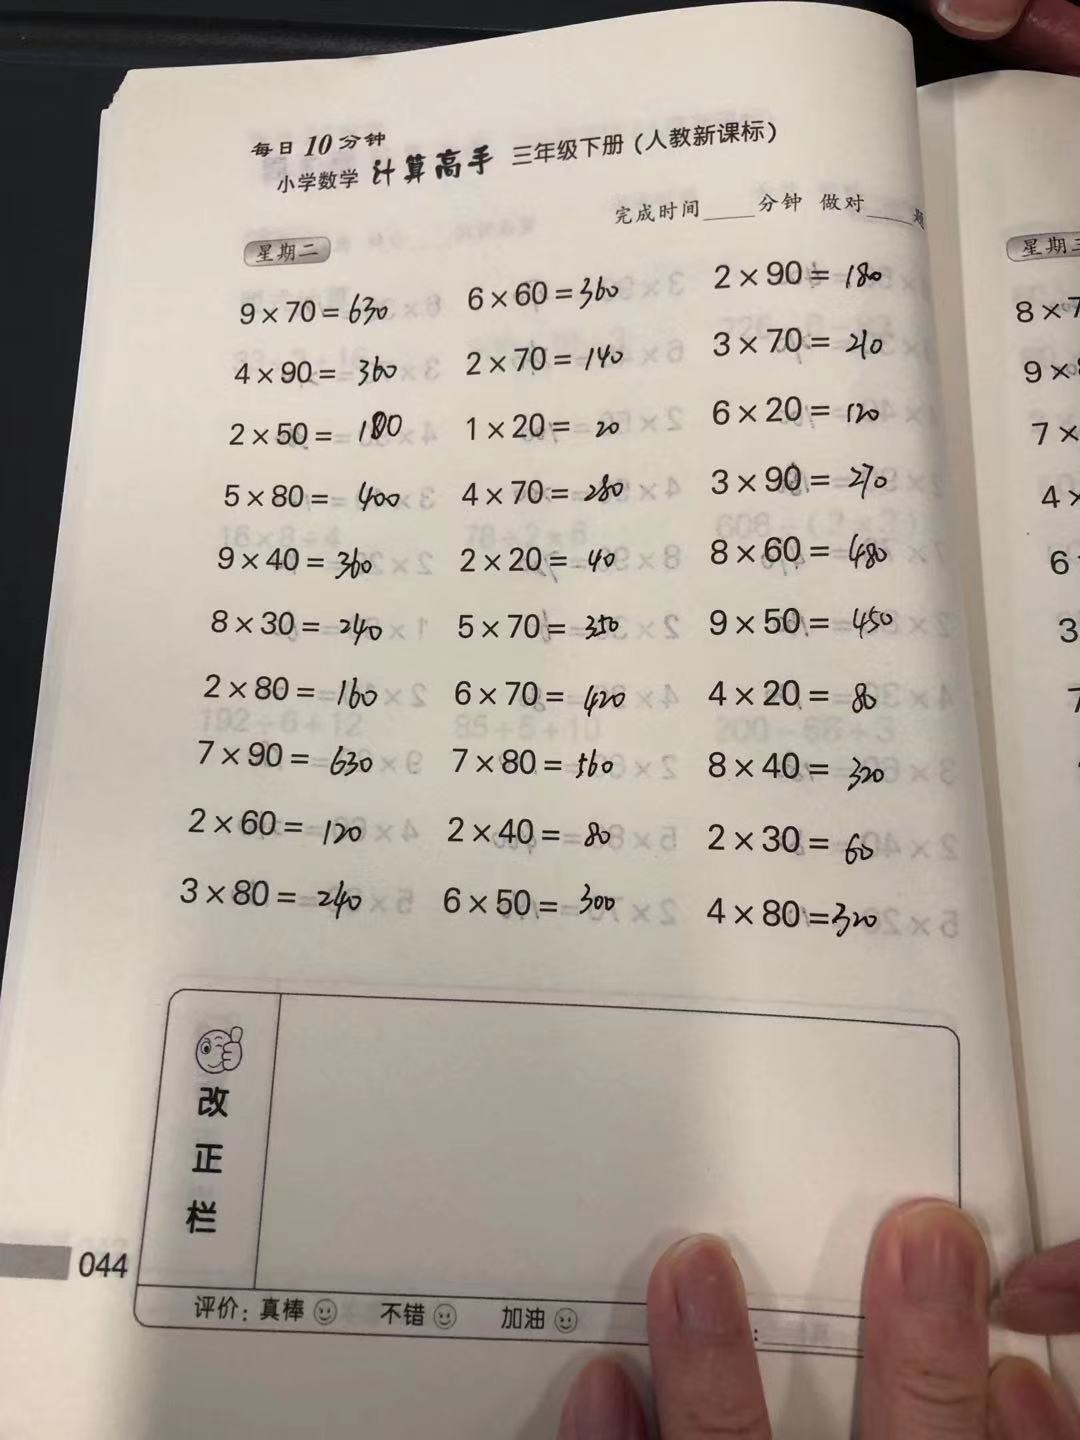equation: (685, 890, 893, 952), (431, 873, 653, 925), (184, 730, 383, 787), (707, 812, 898, 870), (703, 745, 897, 801), (715, 375, 885, 437), (166, 870, 377, 918), (182, 801, 368, 855), (706, 459, 925, 505), (708, 601, 927, 646), (708, 252, 904, 302), (436, 674, 644, 720), (702, 319, 892, 367), (452, 740, 627, 791), (213, 473, 415, 516), (450, 605, 632, 653), (463, 403, 640, 450), (193, 671, 394, 713), (204, 608, 399, 651), (449, 471, 644, 513), (209, 542, 380, 590), (447, 541, 639, 582), (708, 533, 894, 575), (704, 674, 891, 715), (221, 408, 416, 448), (438, 813, 614, 854), (222, 355, 414, 392), (454, 278, 650, 313), (453, 339, 630, 376), (228, 291, 394, 330)
